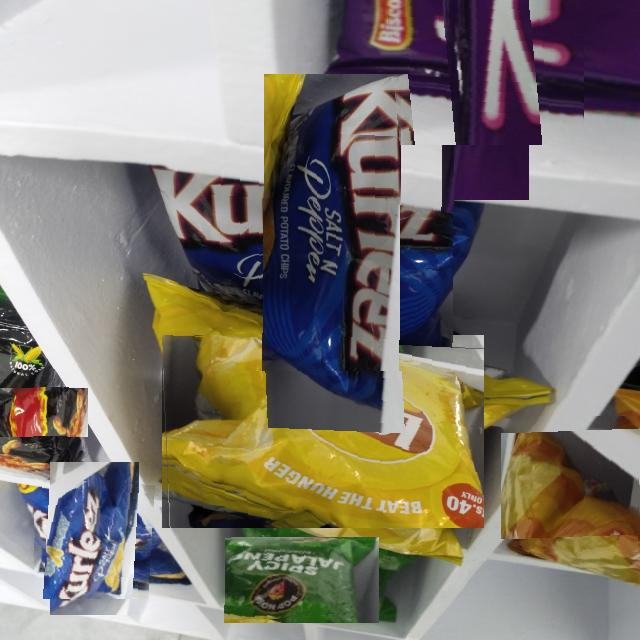Plastic: (161, 334, 484, 528), (211, 127, 454, 371), (386, 0, 584, 145), (517, 416, 640, 556), (34, 478, 155, 599), (224, 537, 379, 623), (0, 369, 69, 455)
